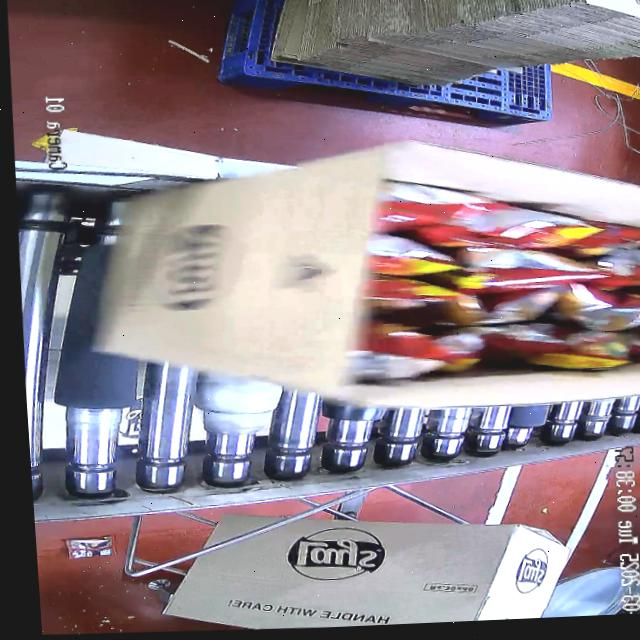YOGURT_HERB: (361, 177, 640, 386)
